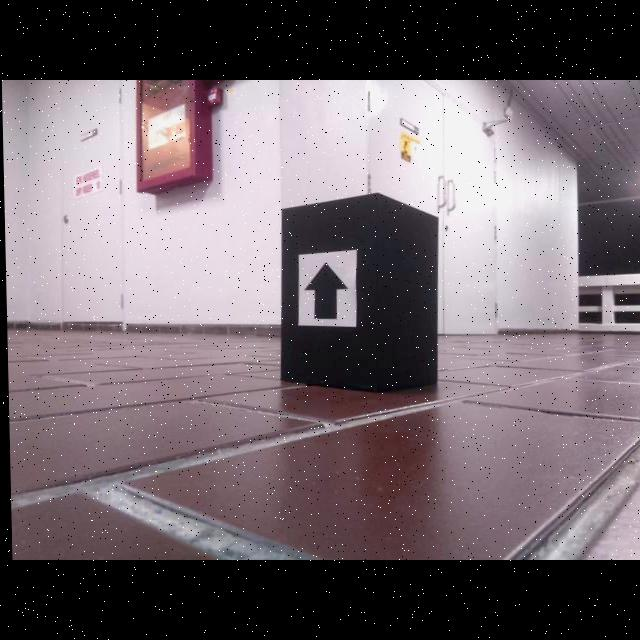UP: (303, 260, 348, 319)
